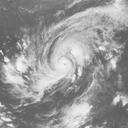cyclone: (31, 33, 95, 88)
